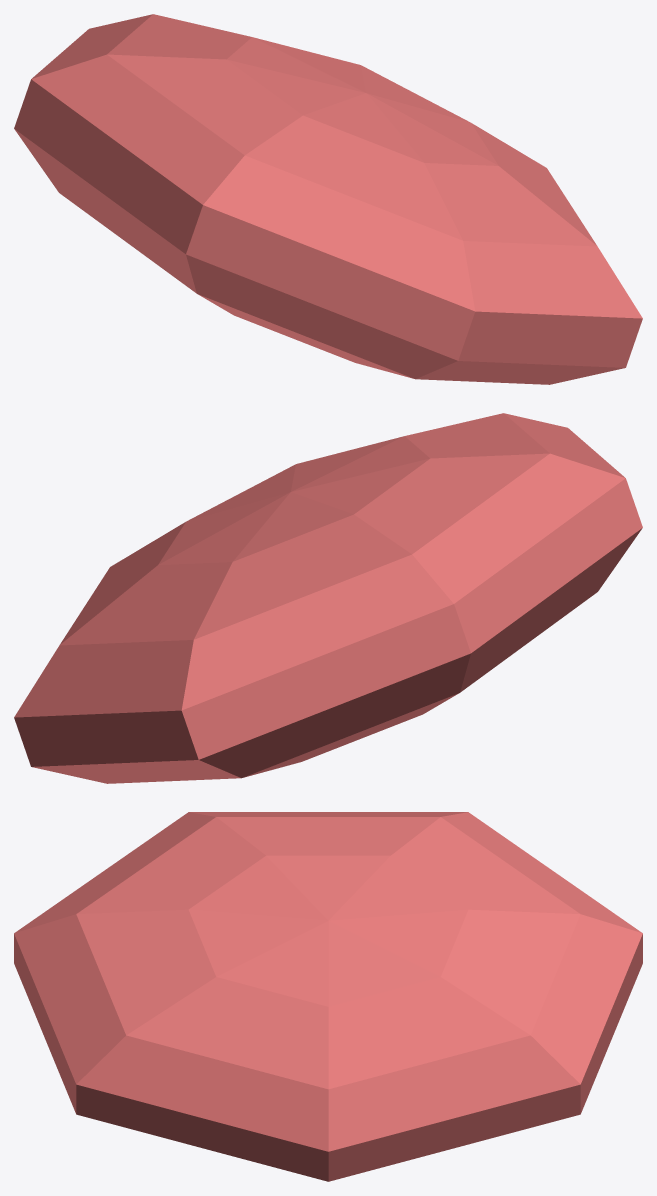
Rendered from MeleeAttack.fbx.
The picture shows the model from 3 angles, top to bottom: view 1: azimuth 30°, elevation 25°; view 2: azimuth 150°, elevation 25°; view 3: azimuth 270°, elevation 25°; orthographic projection. The views are drawn at different scales.
Visible parts, largest first — view 1: pasted__pSphere2; view 2: pasted__pSphere2; view 3: pasted__pSphere2.
Part boxes in pixels (x1=…): pasted__pSphere2: x1=14, y1=14, x2=642, y2=384; pasted__pSphere2: x1=14, y1=413, x2=642, y2=783; pasted__pSphere2: x1=14, y1=812, x2=642, y2=1181.
Size of the model in its own units: 1.34 by 0.7482 by 1.87.
